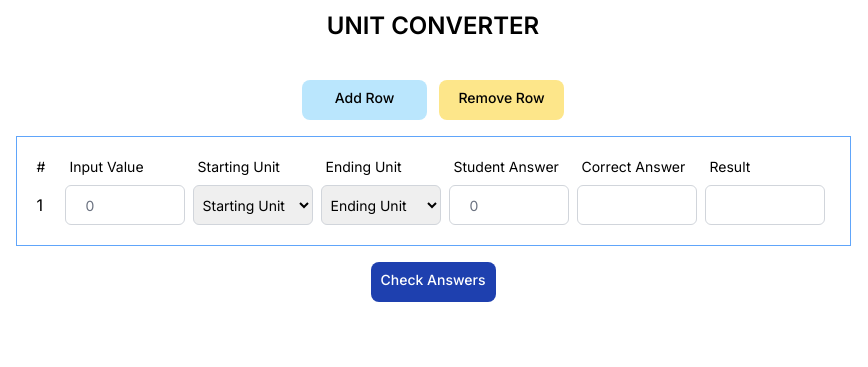
Page component › removes a row when Remove Row button is clicked
Click the button "Add Row". click: (364, 100)
box: [302, 80, 427, 120]
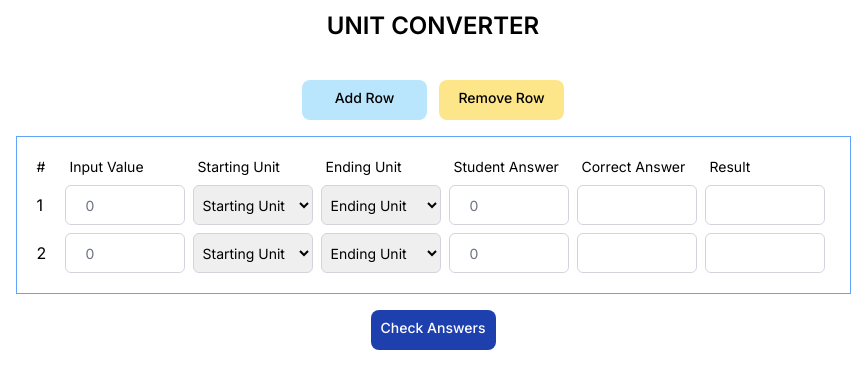
Click the button "Remove Row". click: (502, 100)
box: [439, 80, 564, 120]
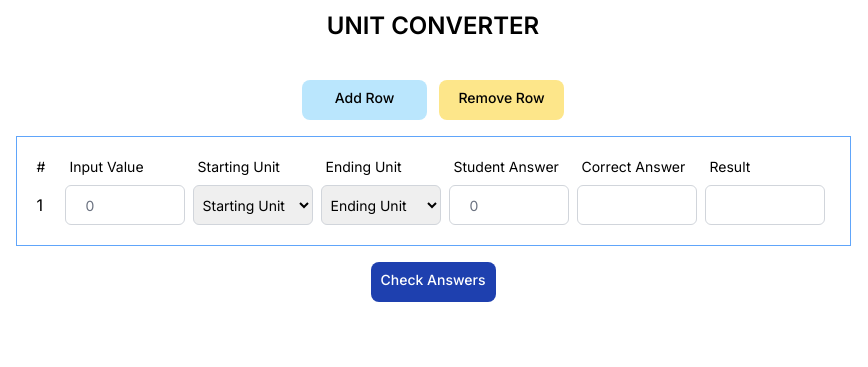
Expected: the number of elements with test id "question-row" is 1, [36, 185, 830, 225]
